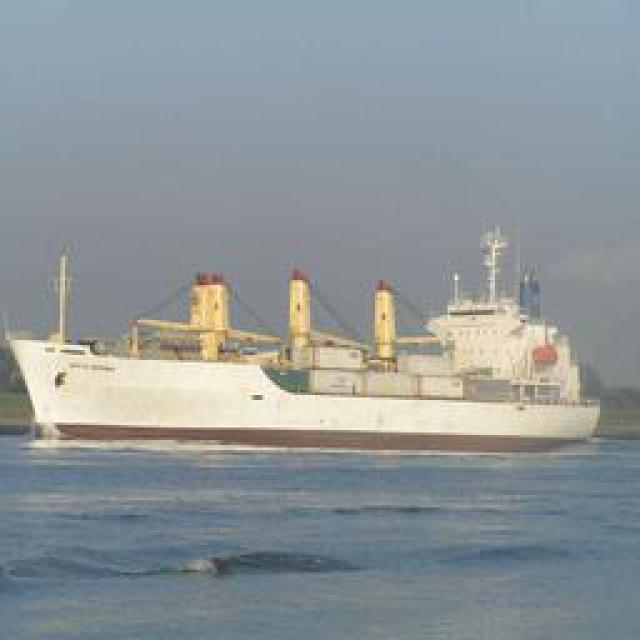Ship: (21, 262, 611, 460)
